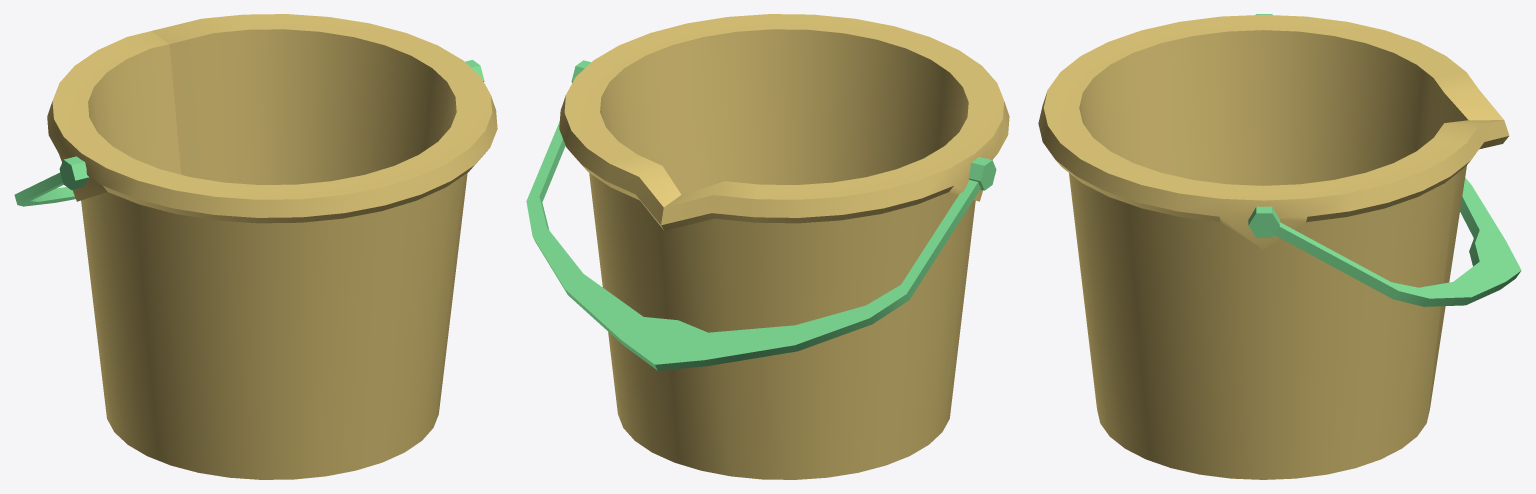
File: Bucket.fbx
3 views of the same model, side by side, from view 1: azimuth 30°, elevation 25°; view 2: azimuth 150°, elevation 25°; view 3: azimuth 270°, elevation 25° (orthographic).
Parts seen in each view (by area): view 1: Cylinder.009, Cube.031; view 2: Cylinder.009, Cube.031; view 3: Cylinder.009, Cube.031.
Part boxes in pixels (x1,y1,x2,y2): Cylinder.009: (47,14,497,479); Cube.031: (14,60,484,206); Cylinder.009: (559,14,1009,479); Cube.031: (526,60,996,370); Cylinder.009: (1038,14,1509,479); Cube.031: (1248,14,1521,306).
Size of the model in its own units: 57.3 by 40.51 by 58.75.
